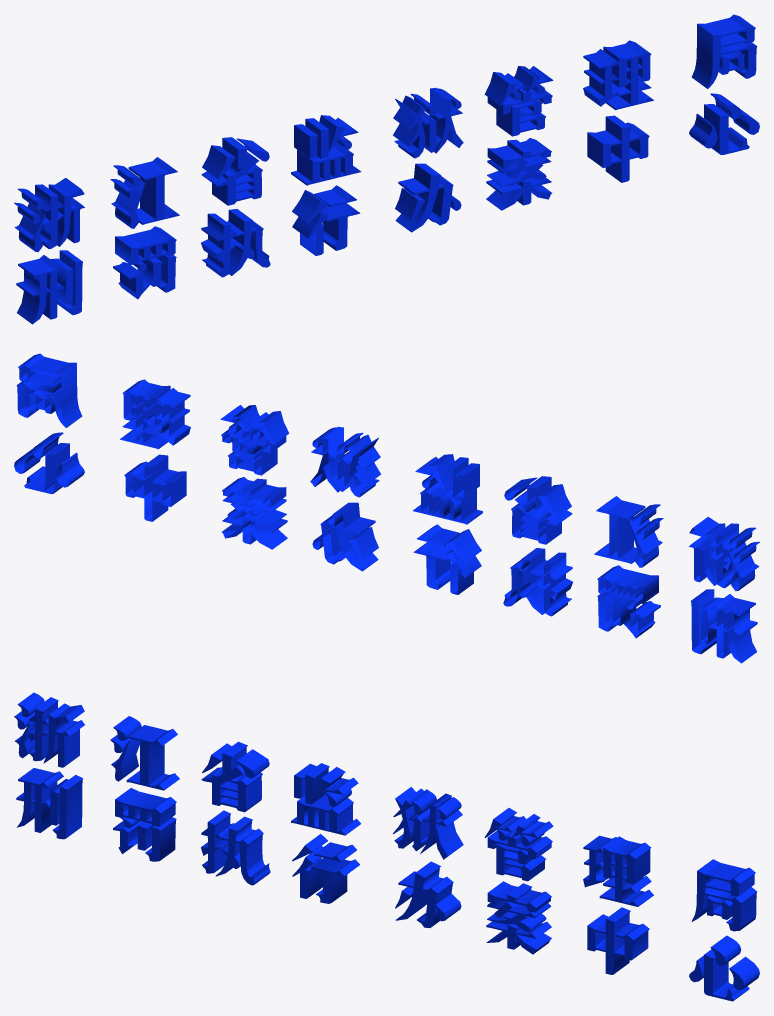
The picture shows the model from 3 angles, top to bottom: view 1: azimuth 30°, elevation 25°; view 2: azimuth 150°, elevation 25°; view 3: azimuth 330°, elevation 25°; orthographic projection.
Parts seen in each view (by area): view 1: Text001; view 2: Text001; view 3: Text001.
Boxes of the visible parts, left/top/right/bottom form: Text001: left=14, top=14, right=759, bottom=324; Text001: left=14, top=353, right=759, bottom=663; Text001: left=14, top=692, right=759, bottom=1001.
Size of the model in its own units: 3.44 by 0.5724 by 0.129.
